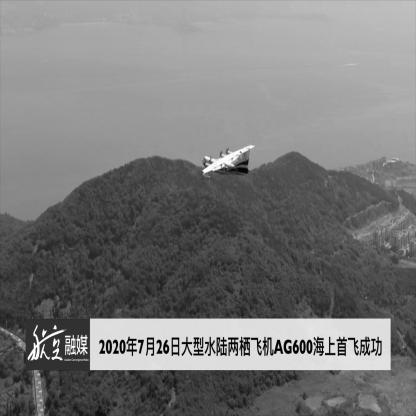AG600: (202, 145, 256, 180)
